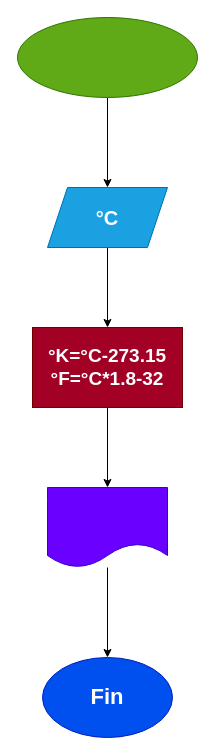
This 215x755 diagram has some shape labels left out. The box of each missing label's shape, as (x1, y1, x2, y2) in pixels:
Inicio: (16, 16, 198, 98)
°F,°K: (46, 486, 168, 568)
